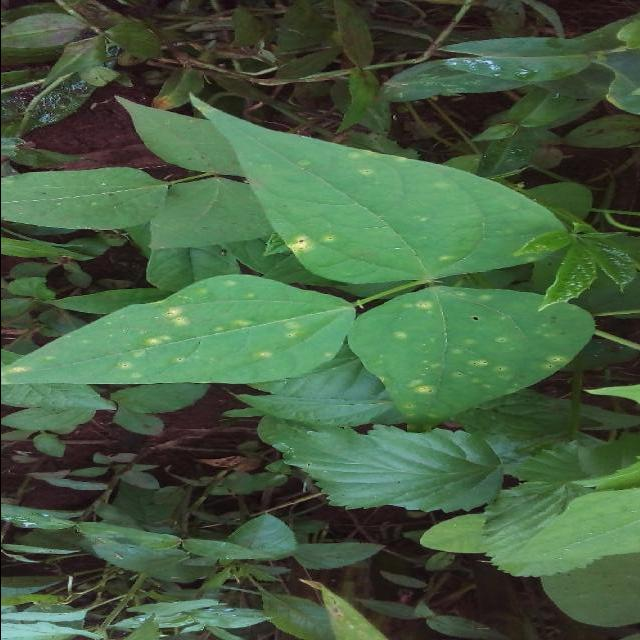hawar: (276, 132, 556, 308), (349, 272, 541, 412), (128, 292, 344, 392)
